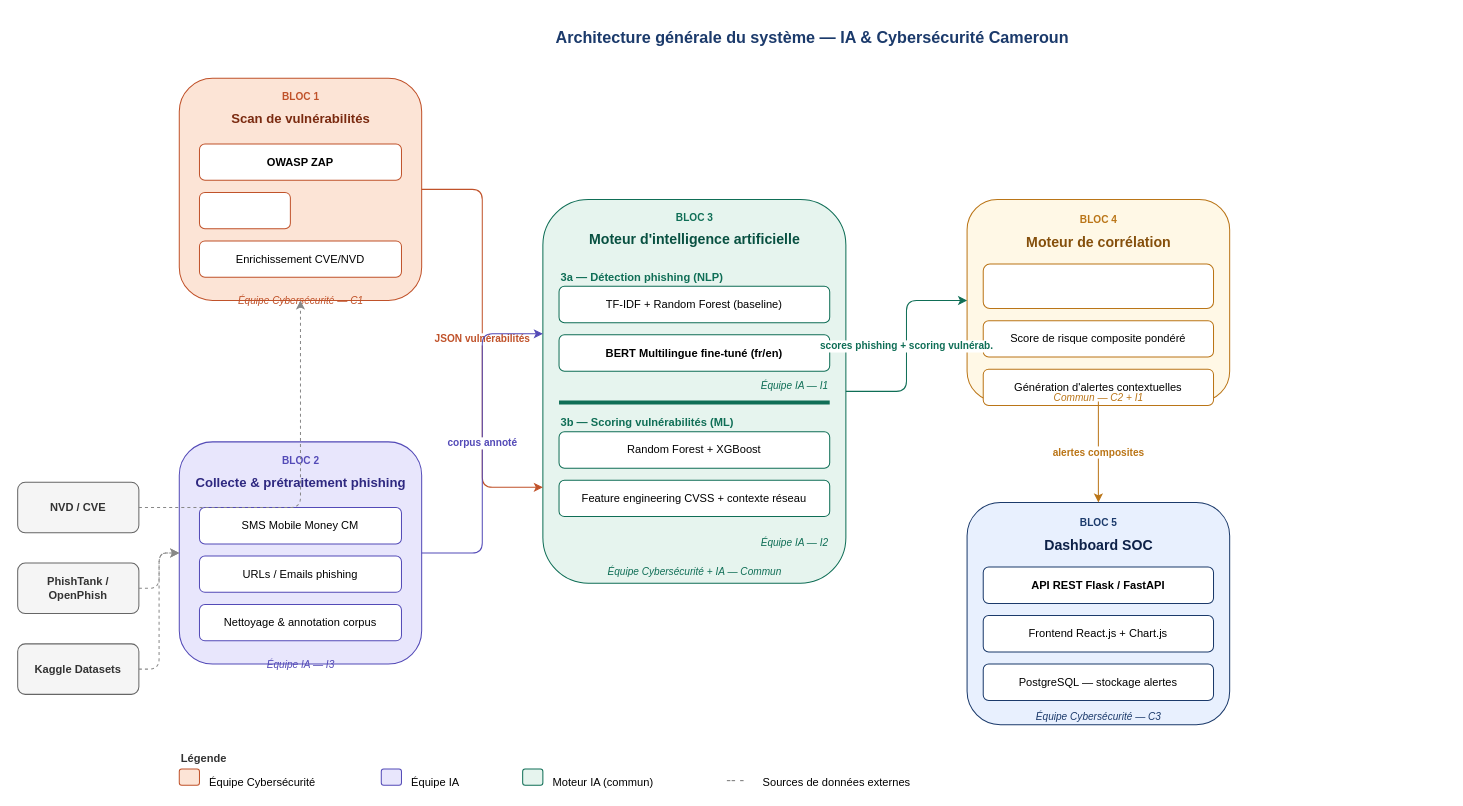
The diagram is 1463 pixels wide and 806 high, and some of its shapes have lost their labels. The centre of each missing label's shape, as x and y in pixels:
"Nmap" goes at pixel 244 210.
"Règles de corrélation vulnérabilités ↔ phishing" goes at pixel 1098 286.
